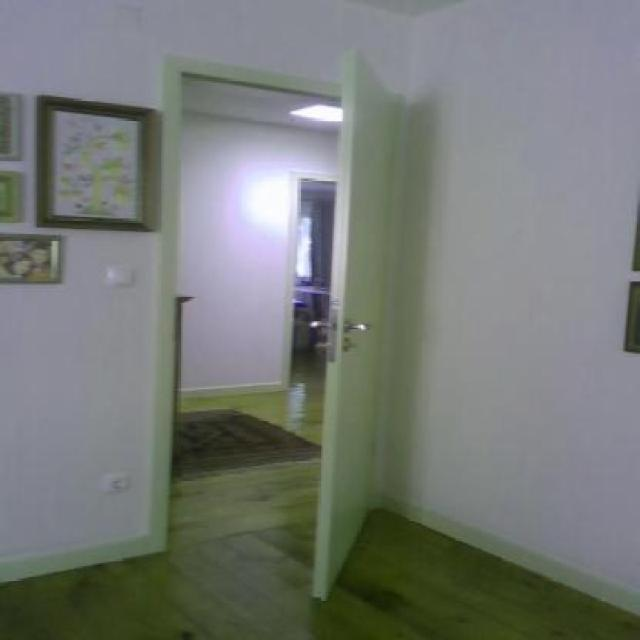door_handle: (349, 320, 378, 339)
